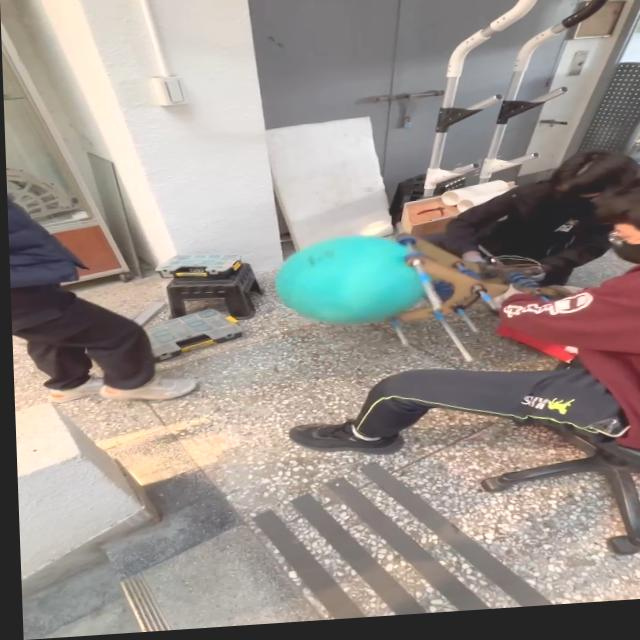ALGAE: (271, 229, 430, 332)
